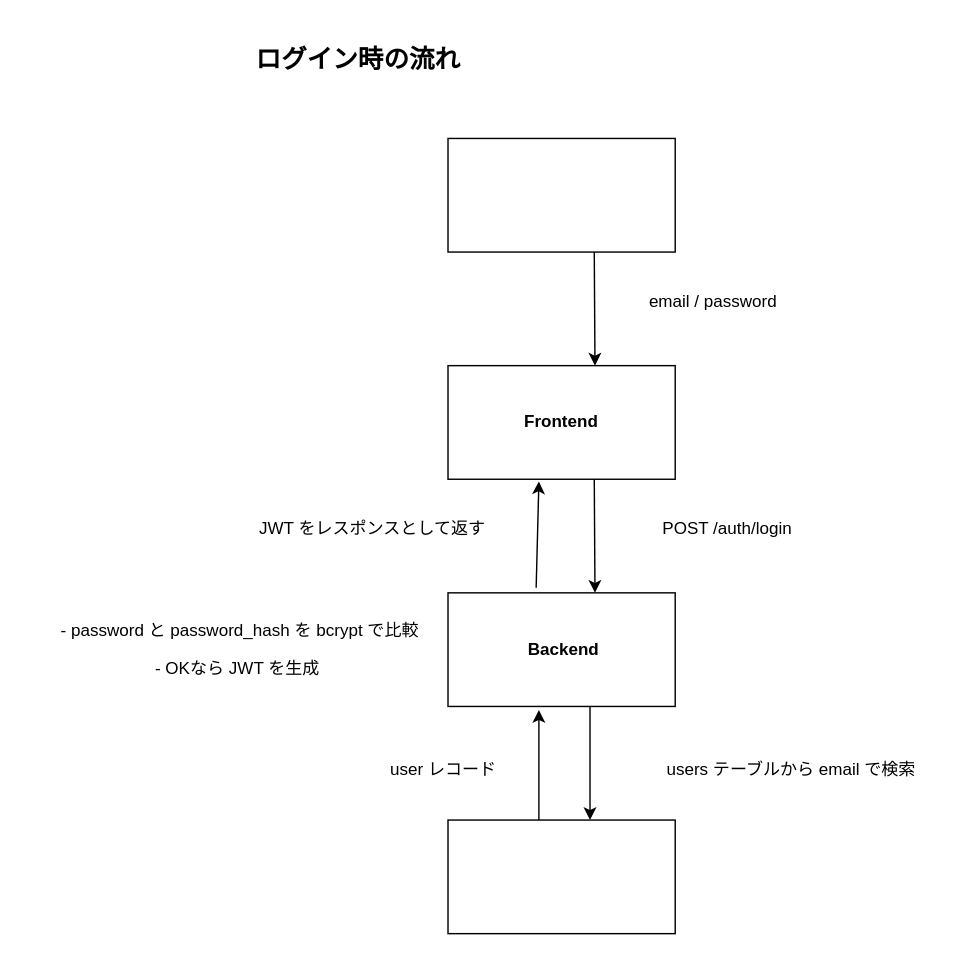
Image size: 971x959. Some labels were removed from this diagram. The centre of each missing label's shape, as x and y in pixels:
"Database" goes at (x=561, y=876).
"User" goes at (x=561, y=194).
